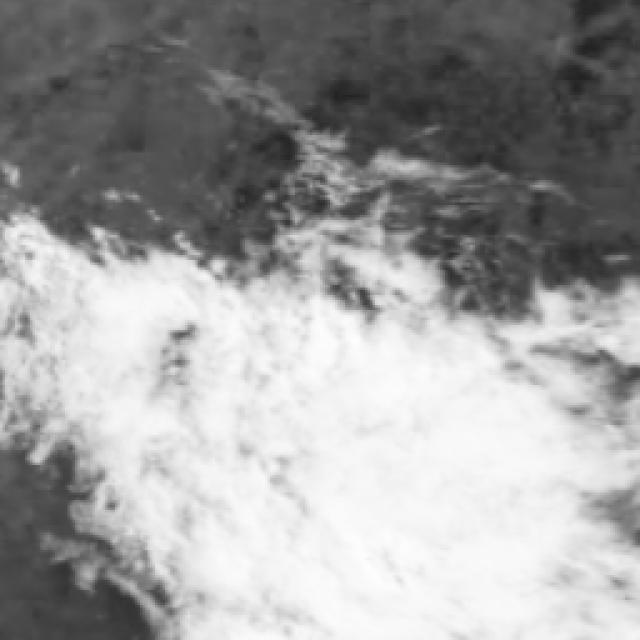CB: (320, 405, 557, 640)
